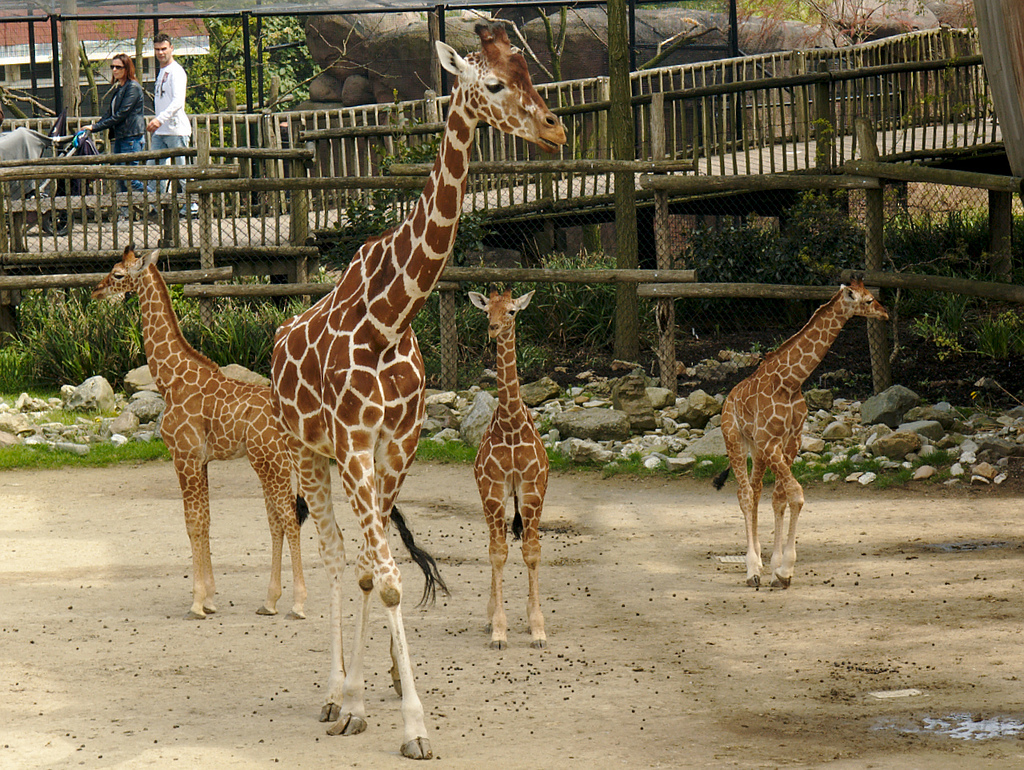giraffe: (267, 24, 607, 751), (78, 236, 326, 620), (683, 253, 907, 636), (460, 289, 596, 667)
